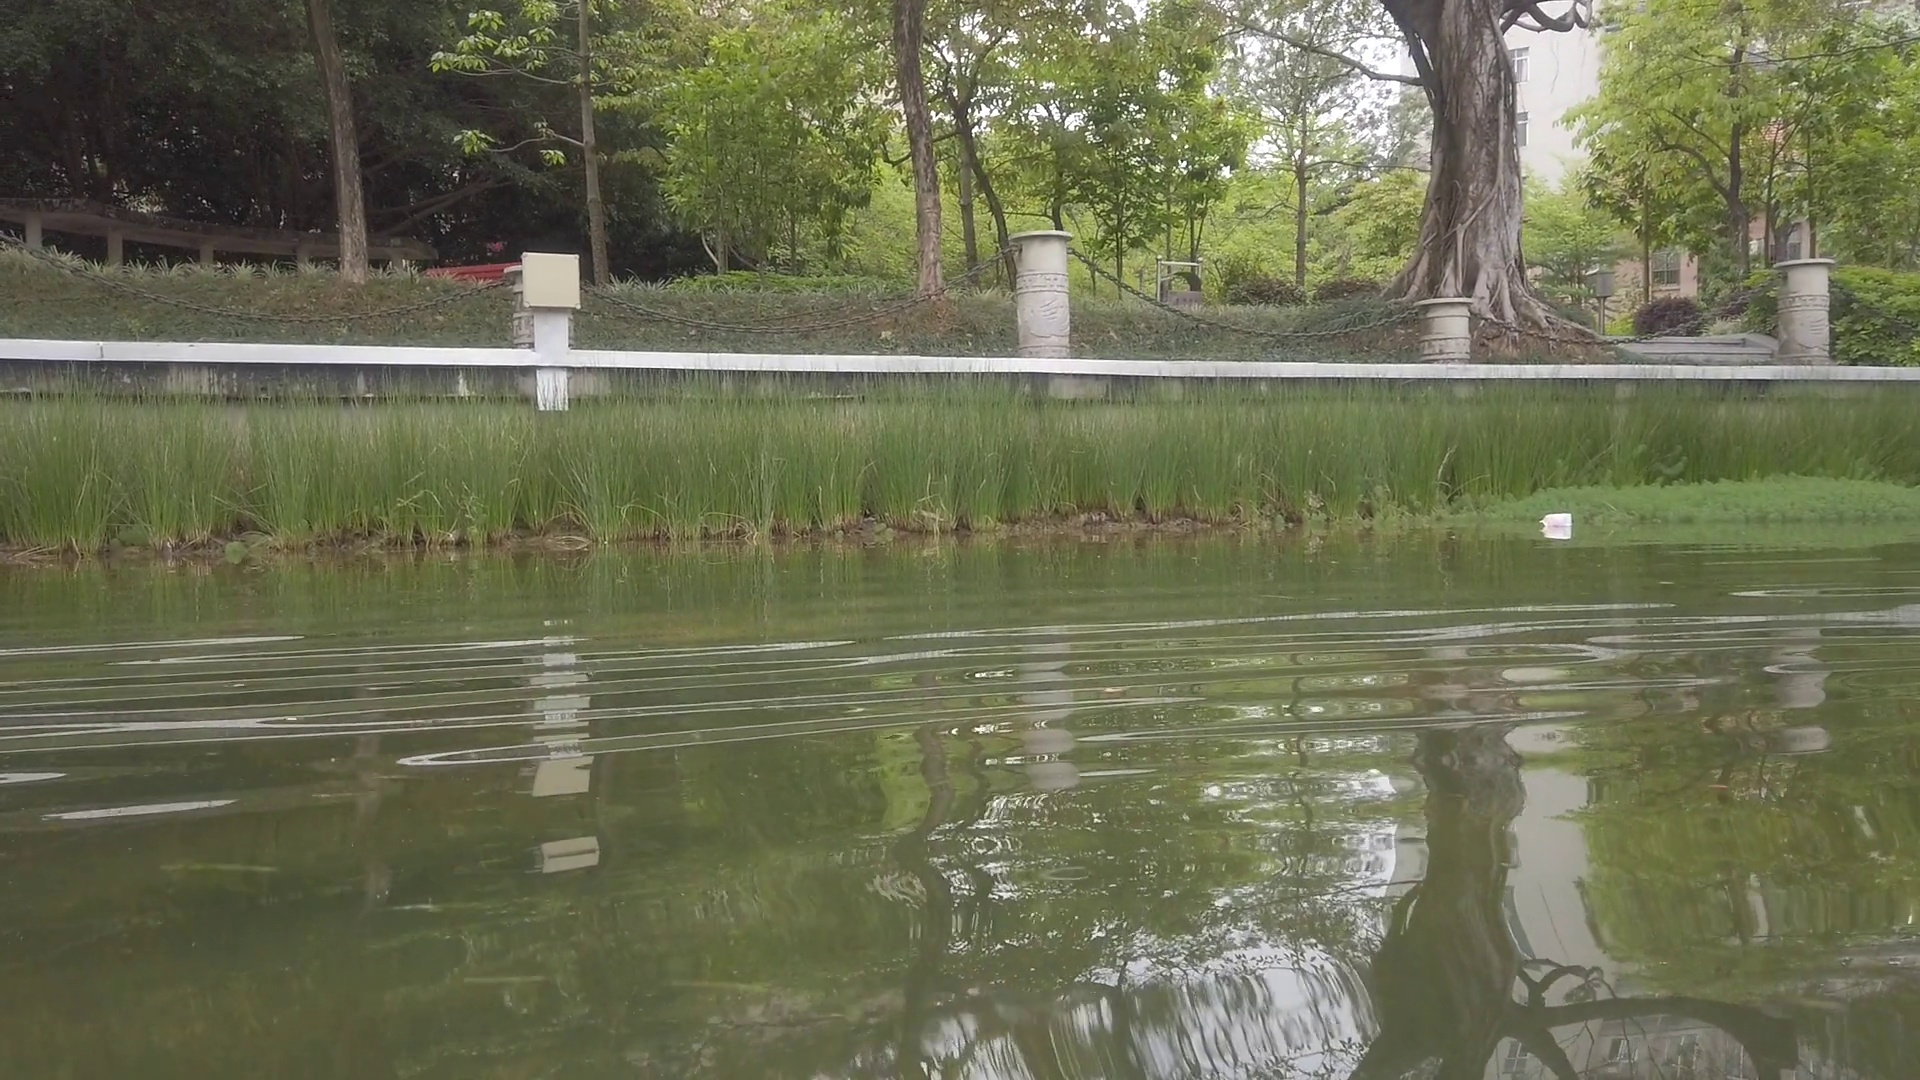carton: (1540, 512, 1572, 527)
